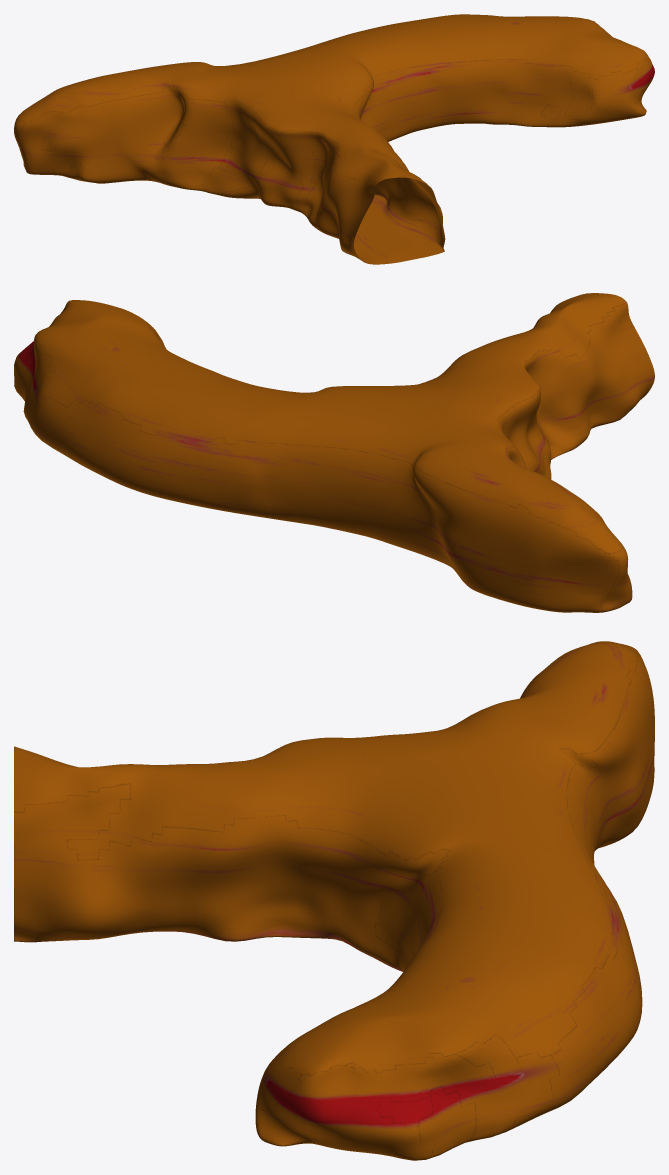
File: cave.obj
3 renders of one model, top to bottom at view 1: azimuth 30°, elevation 25°; view 2: azimuth 150°, elevation 25°; view 3: azimuth 270°, elevation 25°, orthographic. The views are drawn at different scales.
Parts seen in each view (by area): view 1: Cube_Cube.003; view 2: Cube_Cube.003; view 3: Cube_Cube.003.
Part boxes in pixels (left/top/right/bottom): Cube_Cube.003: left=14, top=14, right=654, bottom=264; Cube_Cube.003: left=14, top=293, right=654, bottom=612; Cube_Cube.003: left=14, top=641, right=654, bottom=1160.
Size of the model in its own units: 58.16 by 9.31 by 34.93.
Materials: 1 (1 with a texture image).
